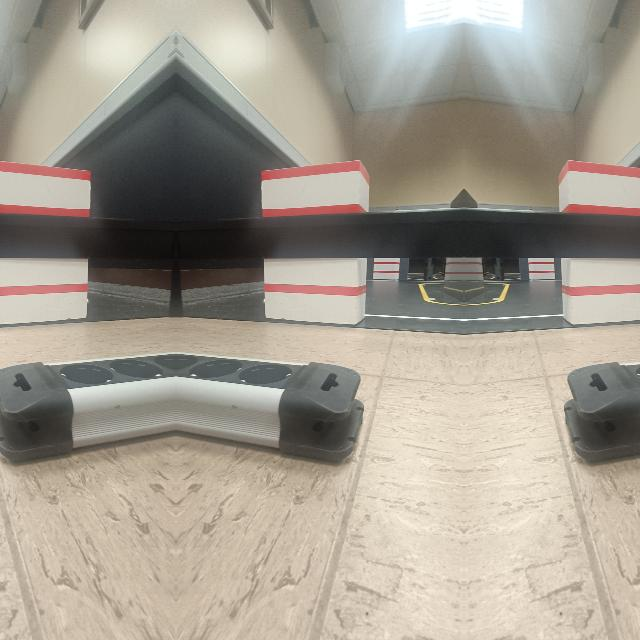obstacle: (175, 350, 365, 460), (0, 349, 175, 460), (562, 349, 640, 460)
